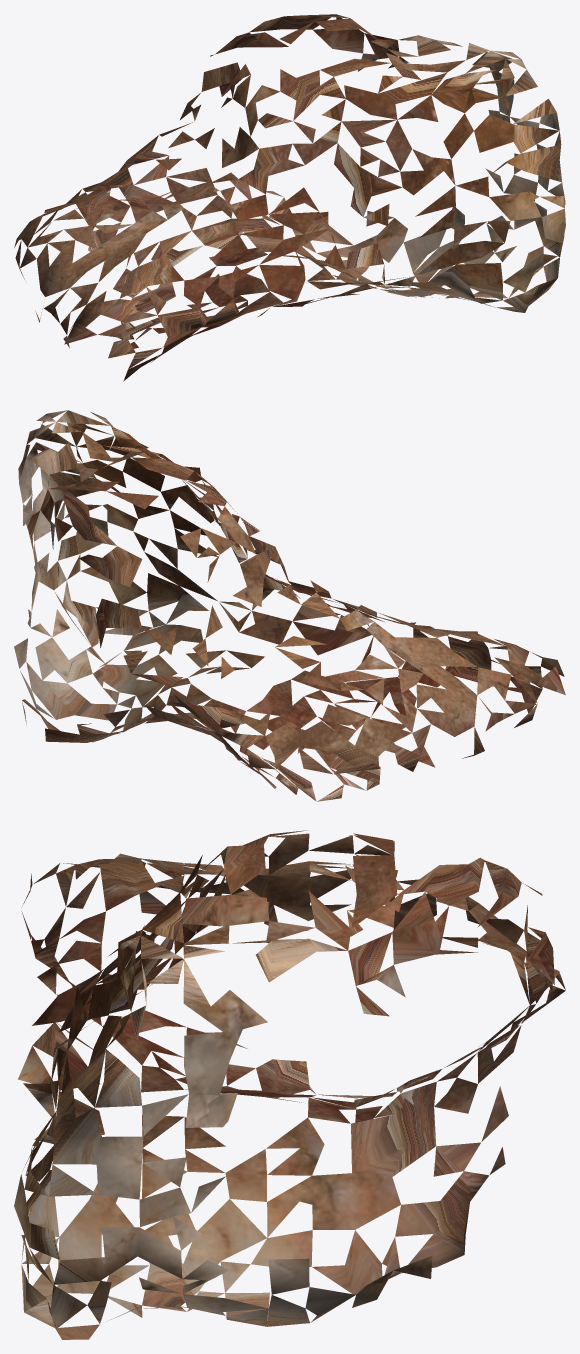
Rendered from stone_01.glb.
3 views of the same model, one above another, from view 1: azimuth 30°, elevation 25°; view 2: azimuth 150°, elevation 25°; view 3: azimuth 270°, elevation 25° (orthographic). The views are drawn at different scales.
Parts seen in each view (by area): view 1: stone_01; view 2: stone_01; view 3: stone_01.
Boxes of the visible parts, x1,y1,x2,y2 form: stone_01: [14, 14, 565, 381]; stone_01: [14, 410, 565, 801]; stone_01: [14, 830, 565, 1339].
Bounding box in the file's own units: 0.1411 × 0.0696 × 0.0835.
Materials: 1 (1 with a texture image).
